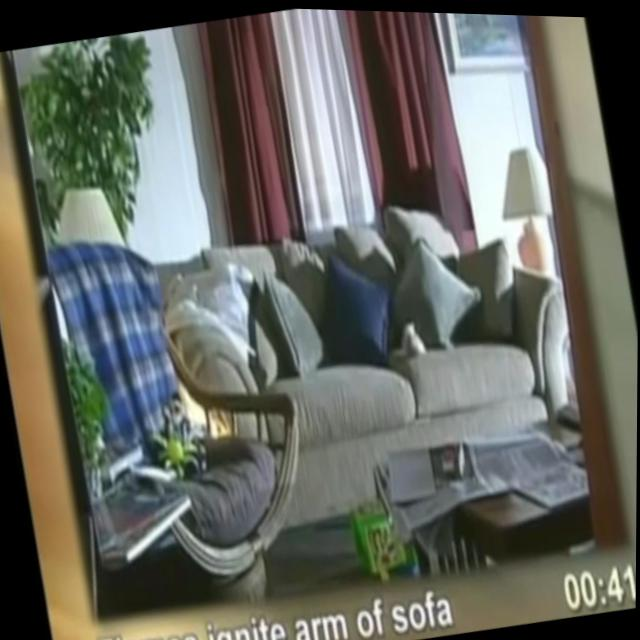fire: (174, 355, 232, 441)
